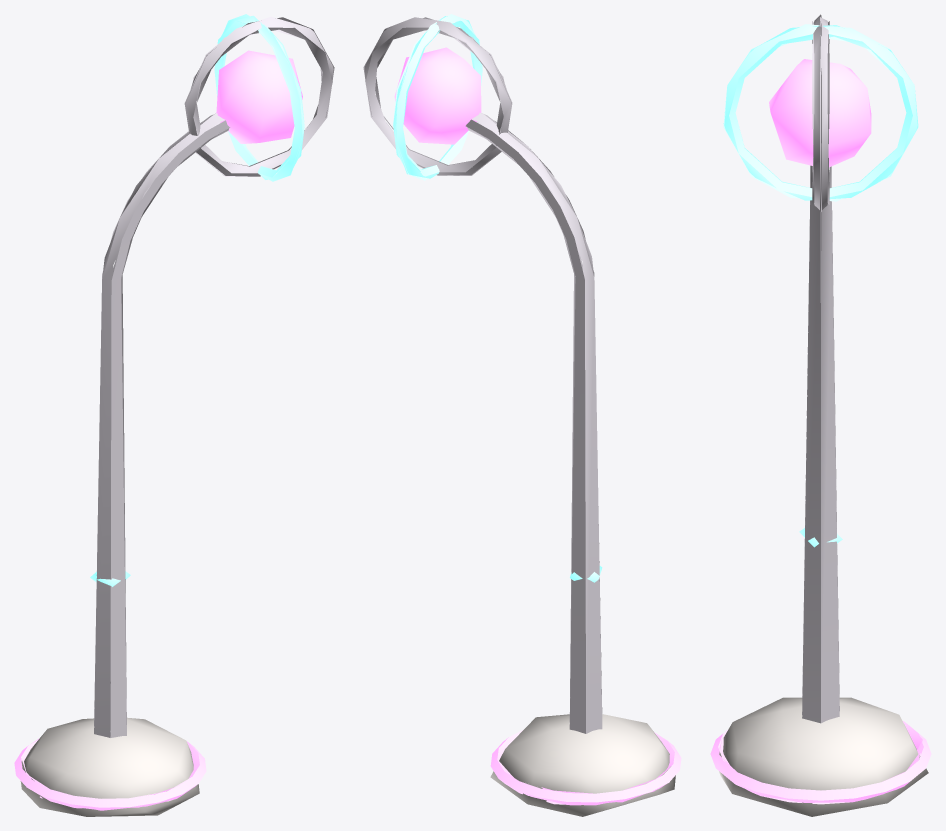
The model's file is lod_lamp_futuristic.glb.
3 renders of one model, left to right at view 1: azimuth 30°, elevation 25°; view 2: azimuth 150°, elevation 25°; view 3: azimuth 270°, elevation 25°, orthographic. The views are drawn at different scales.
Parts seen in each view (by area): view 1: lamp_futuristic; view 2: lamp_futuristic; view 3: lamp_futuristic.
Part boxes in pixels (x1,y1,x2,y2): lamp_futuristic: (14,14,334,816); lamp_futuristic: (363,14,681,816); lamp_futuristic: (710,14,931,816).
Bounding box in the file's own units: 1.86 × 4.2 × 1.01.
